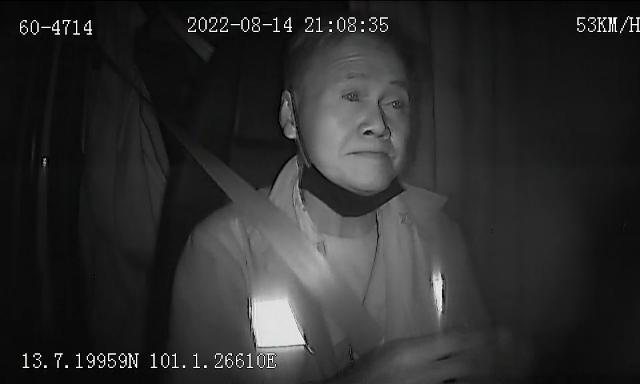SafeDriving: (335, 80, 371, 110), (378, 87, 412, 117)
Seatbelt: (183, 140, 393, 356)
